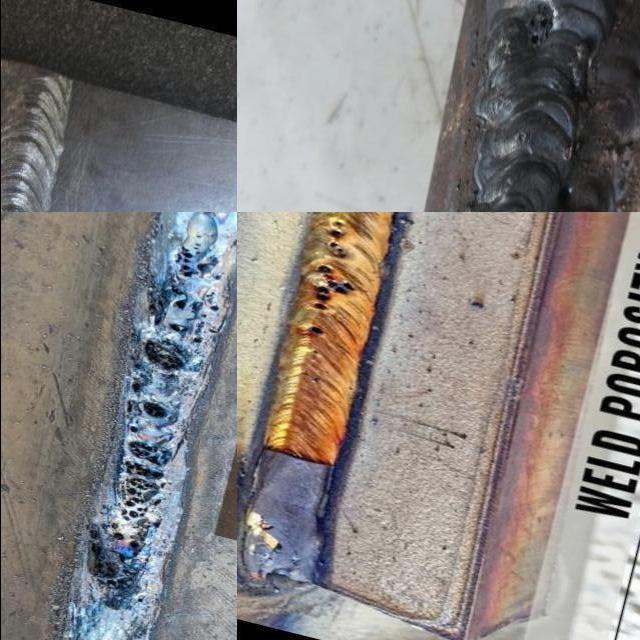defect: (83, 441, 175, 595), (306, 262, 362, 315), (171, 229, 225, 283), (516, 0, 557, 54), (139, 336, 188, 375), (123, 399, 165, 422), (325, 219, 348, 259), (138, 297, 164, 331), (166, 283, 188, 311), (514, 126, 533, 146), (297, 370, 319, 385), (305, 326, 328, 339), (165, 322, 189, 334), (127, 384, 142, 394), (126, 423, 137, 436), (305, 347, 319, 357), (205, 328, 220, 336), (206, 305, 219, 313), (203, 292, 216, 300), (196, 313, 210, 320), (191, 337, 203, 345), (130, 365, 142, 370), (134, 596, 141, 604)
